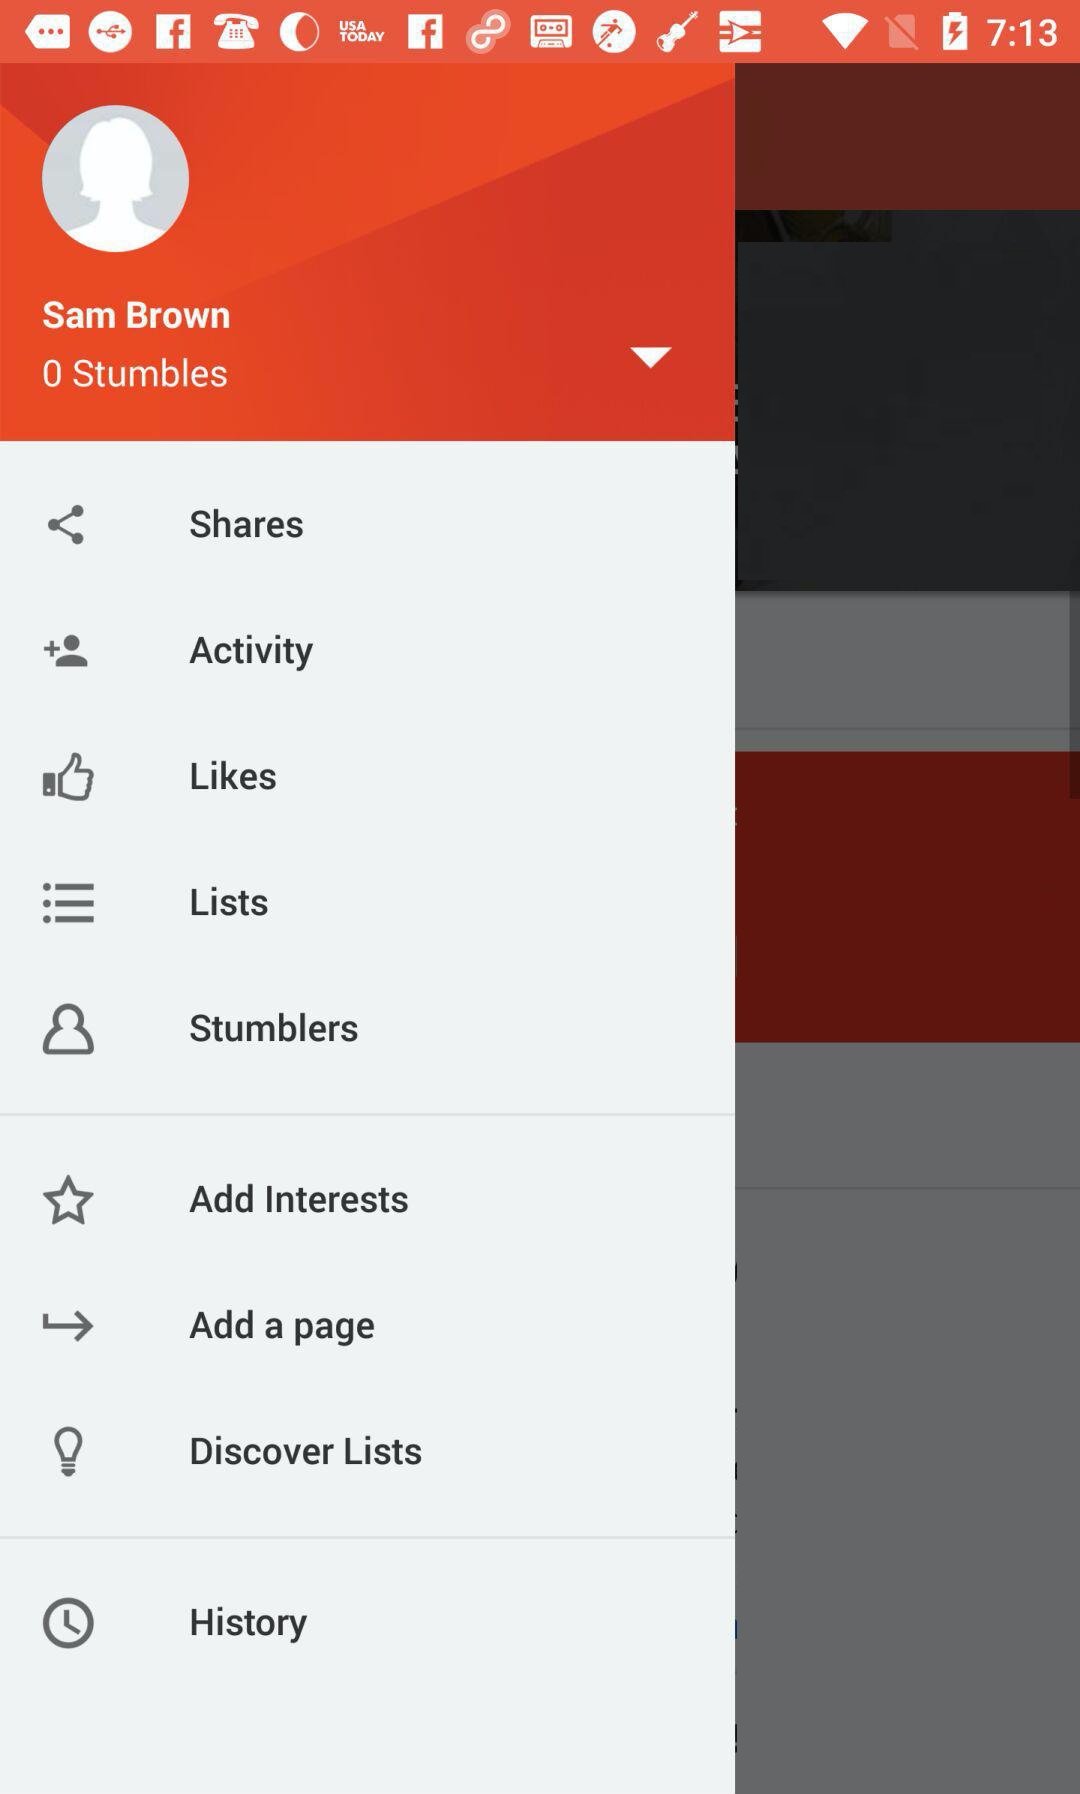Drawer: (1, 62, 735, 1794)
Icon: (41, 105, 191, 255), (44, 1597, 96, 1649), (44, 1174, 96, 1226), (44, 1003, 96, 1056), (42, 882, 96, 925), (42, 1310, 95, 1343), (47, 504, 86, 546), (44, 634, 88, 668), (629, 346, 674, 372)
Image: (44, 752, 96, 802), (54, 1426, 85, 1477)
Text: (191, 1434, 423, 1467), (190, 1310, 375, 1348), (190, 1183, 410, 1215), (44, 358, 229, 390), (42, 300, 232, 331), (190, 1011, 360, 1044), (190, 634, 315, 673), (191, 1606, 309, 1644), (190, 507, 305, 539), (191, 760, 278, 791), (191, 885, 270, 918)
UpperTaskBar: (1, 1, 1080, 64)
